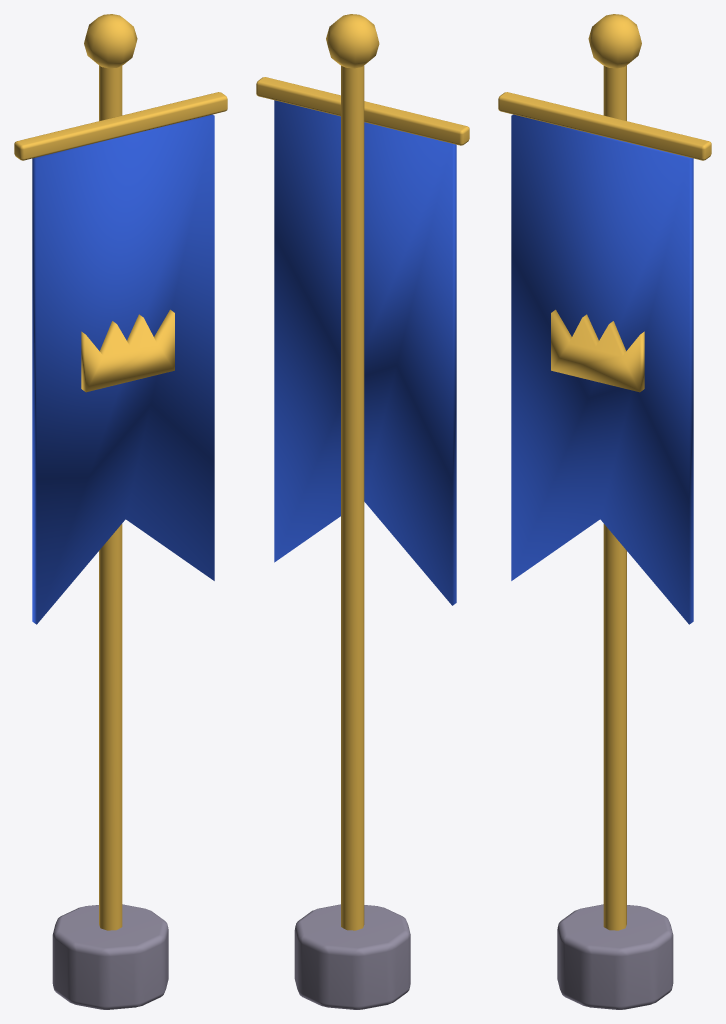
File: faire_banner.glb
3 renders of one model, left to right at view 1: azimuth 30°, elevation 25°; view 2: azimuth 150°, elevation 25°; view 3: azimuth 330°, elevation 25°, orthographic.
Visible parts, largest first — view 1: Banner; view 2: Banner; view 3: Banner.
Part boxes in pixels (x1,y1,x2,y2): Banner: [14, 14, 227, 1009]; Banner: [256, 14, 469, 1009]; Banner: [498, 14, 711, 1009].
Size of the model in its own units: 1.4 by 6.26 by 0.6855.
